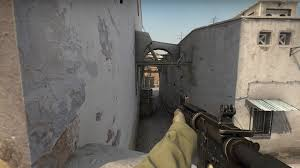gun: (172, 95, 294, 167)
